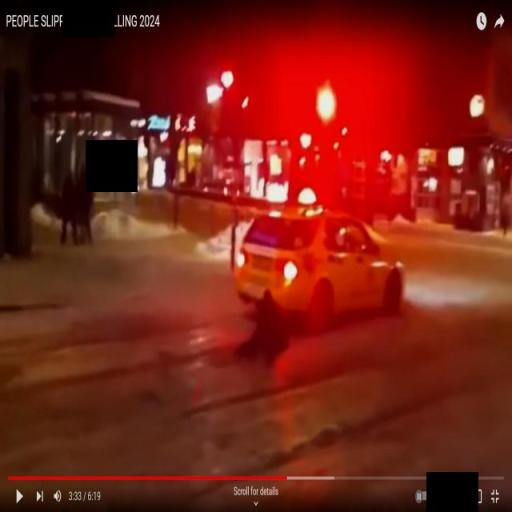Fall: (234, 285, 293, 369)
